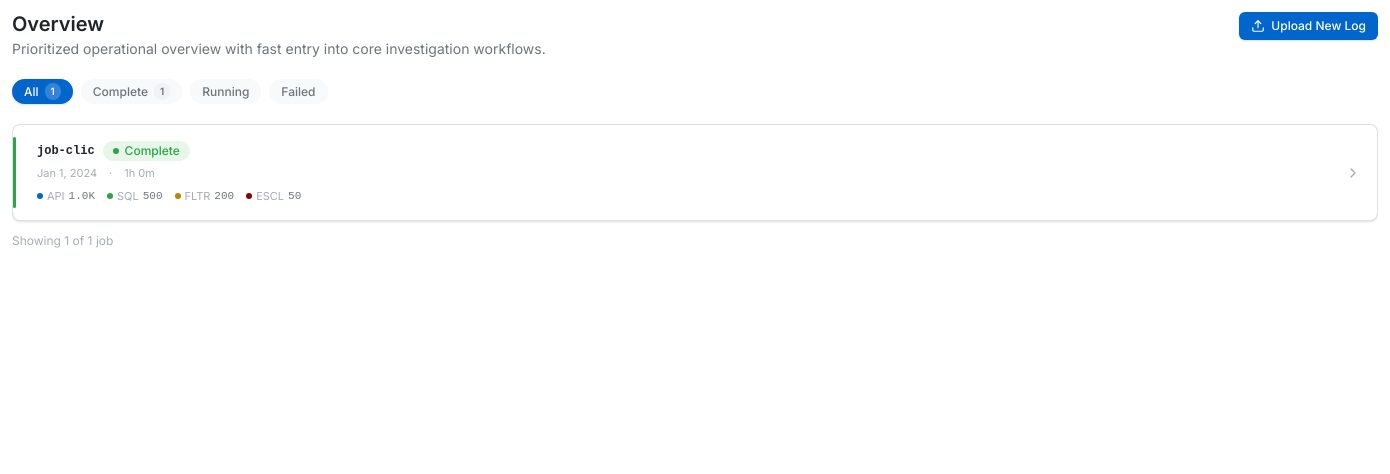
Test case: AnalysisListPage › collapses expanded card when clicked again
Click the button "job-cli": (66, 151) top-left (13, 125), bottom-right (1377, 220)
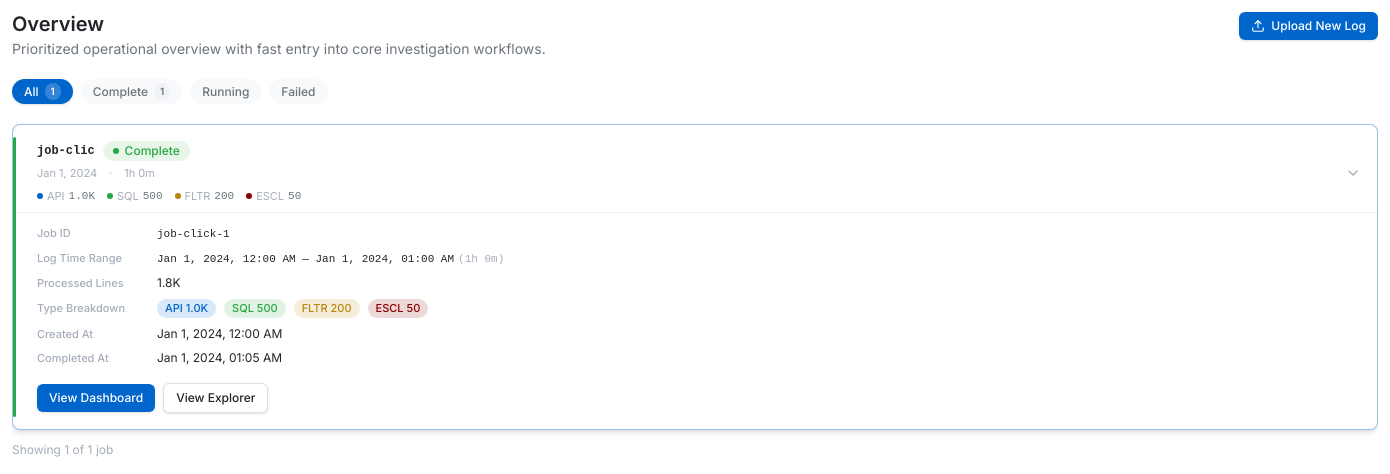
Expected: the button "job-cli" is expanded
Click the button "job-cli": (66, 151) top-left (13, 125), bottom-right (1377, 212)
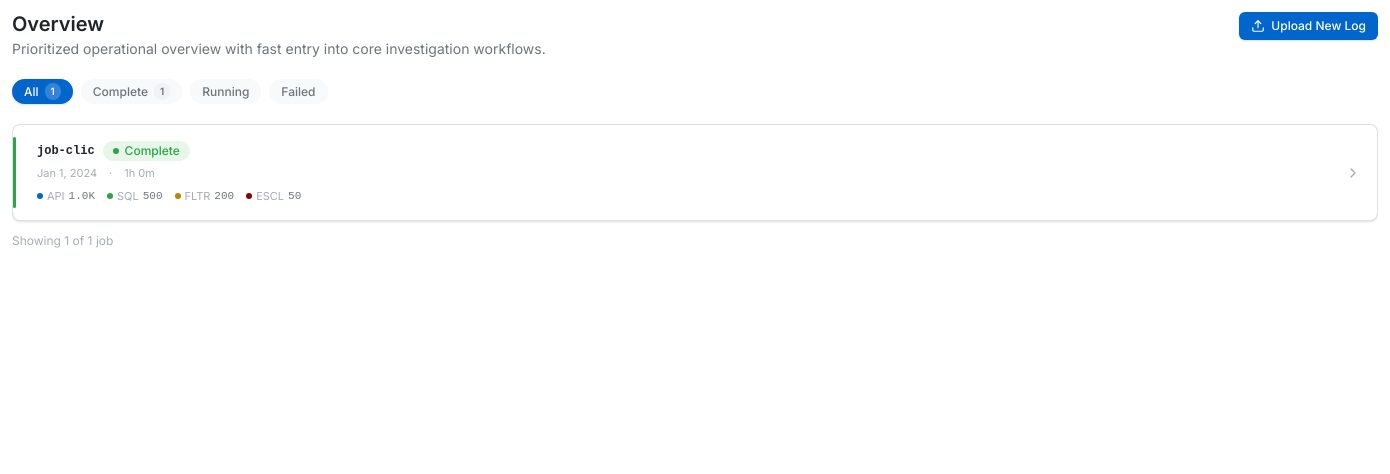
Expected: the button "job-cli" is collapsed, top-left (13, 125), bottom-right (1377, 220)
